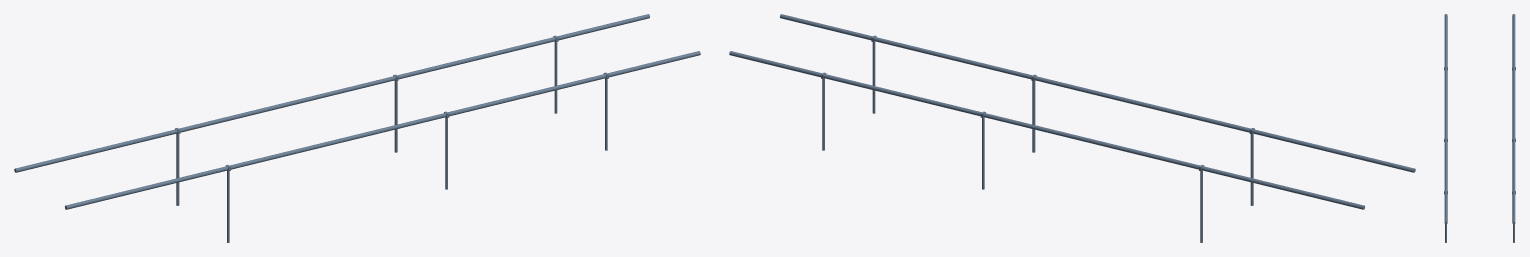
File: SM_Pipe_CeilingMain.fbx
The picture shows the model from 3 angles, left to right: view 1: azimuth 30°, elevation 25°; view 2: azimuth 150°, elevation 25°; view 3: azimuth 270°, elevation 25°; orthographic projection. The views are drawn at different scales.
Parts seen in each view (by area): view 1: SM_Pipe_CeilingMain; view 2: SM_Pipe_CeilingMain; view 3: SM_Pipe_CeilingMain.
Part boxes in pixels (bbox=[...]): SM_Pipe_CeilingMain: bbox=[14, 14, 700, 242]; SM_Pipe_CeilingMain: bbox=[729, 14, 1415, 242]; SM_Pipe_CeilingMain: bbox=[1444, 14, 1515, 242].
Size of the model in its own units: 1999 by 292 by 230.
